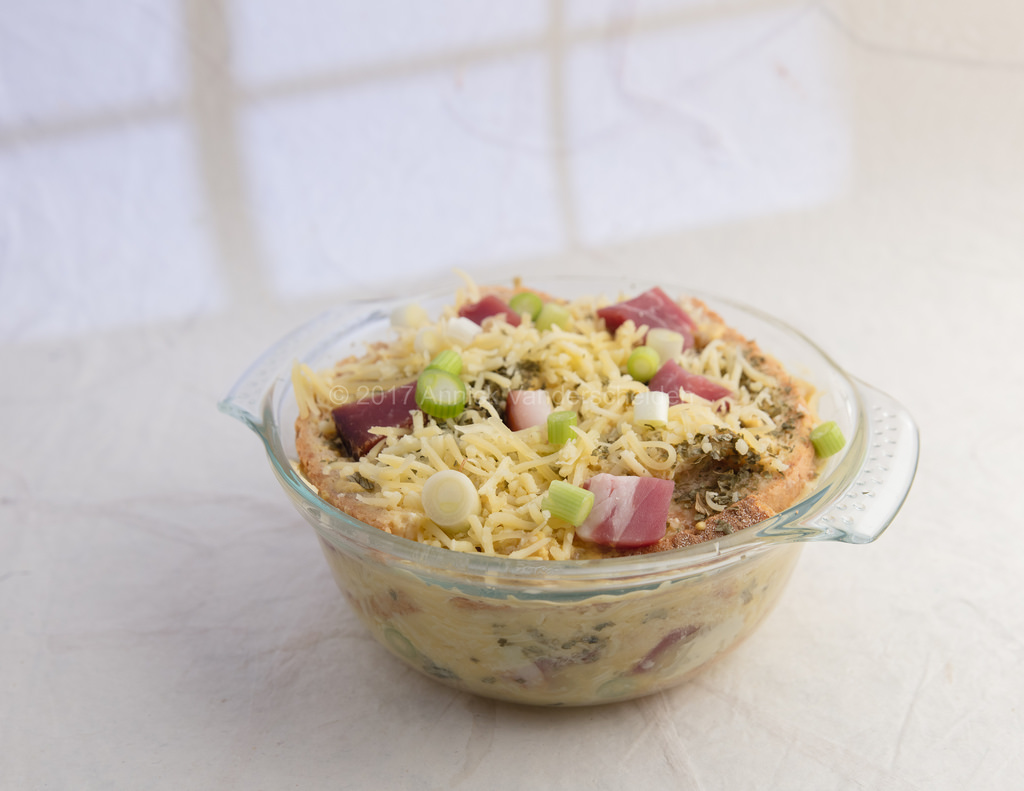slice of bread: (290, 340, 863, 583)
